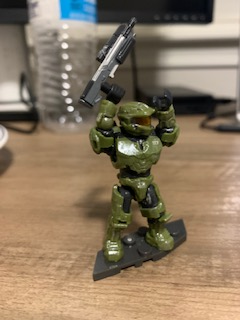chief: (89, 83, 179, 262)
rifle: (80, 17, 139, 107)
spartan: (87, 81, 177, 260)
up: (88, 83, 180, 177)
